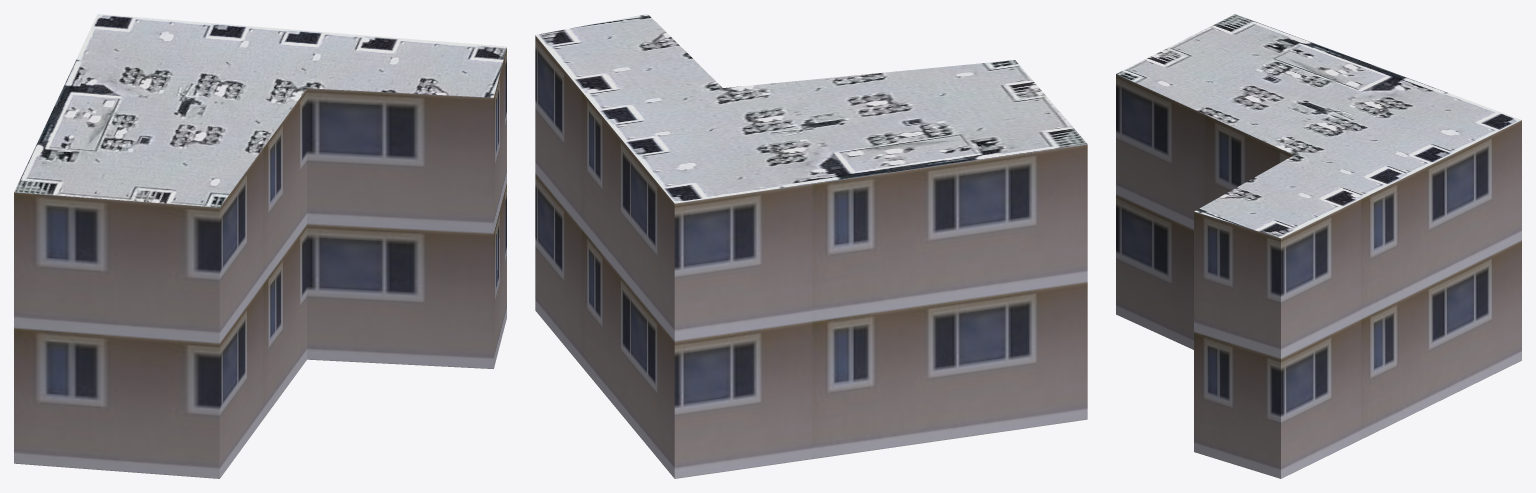
The model's file is ResTex__2348.fbx.
3 renders of one model, left to right at view 1: azimuth 30°, elevation 25°; view 2: azimuth 150°, elevation 25°; view 3: azimuth 270°, elevation 25°, orthographic. The views are drawn at different scales.
Visible parts, largest first — view 1: CityEngineMaterial_21_m, CityEngineMaterial_8_m; view 2: CityEngineMaterial_21_m, CityEngineMaterial_8_m; view 3: CityEngineMaterial_21_m, CityEngineMaterial_8_m.
Boxes of the visible parts, x1,y1,x2,y2 form: CityEngineMaterial_21_m: [14, 47, 506, 478]; CityEngineMaterial_8_m: [14, 14, 506, 207]; CityEngineMaterial_21_m: [535, 35, 1087, 478]; CityEngineMaterial_8_m: [535, 14, 1087, 203]; CityEngineMaterial_21_m: [1116, 74, 1521, 478]; CityEngineMaterial_8_m: [1116, 14, 1521, 238].
Size of the model in its own units: 12 by 6 by 9.17.
2 materials, 2 textured.
